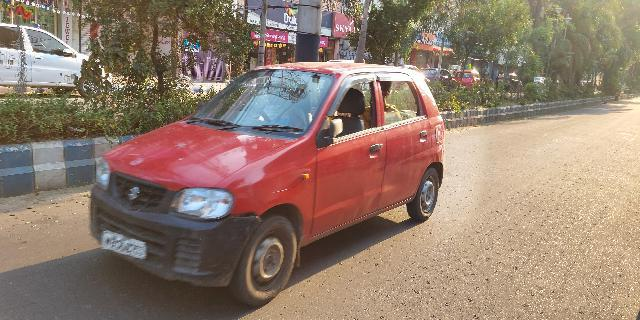Car: (81, 54, 452, 313)
